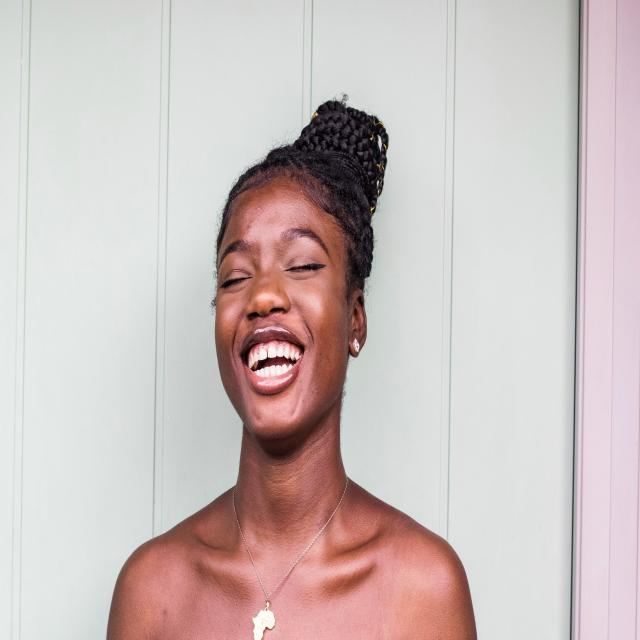adult: (104, 92, 474, 640)
